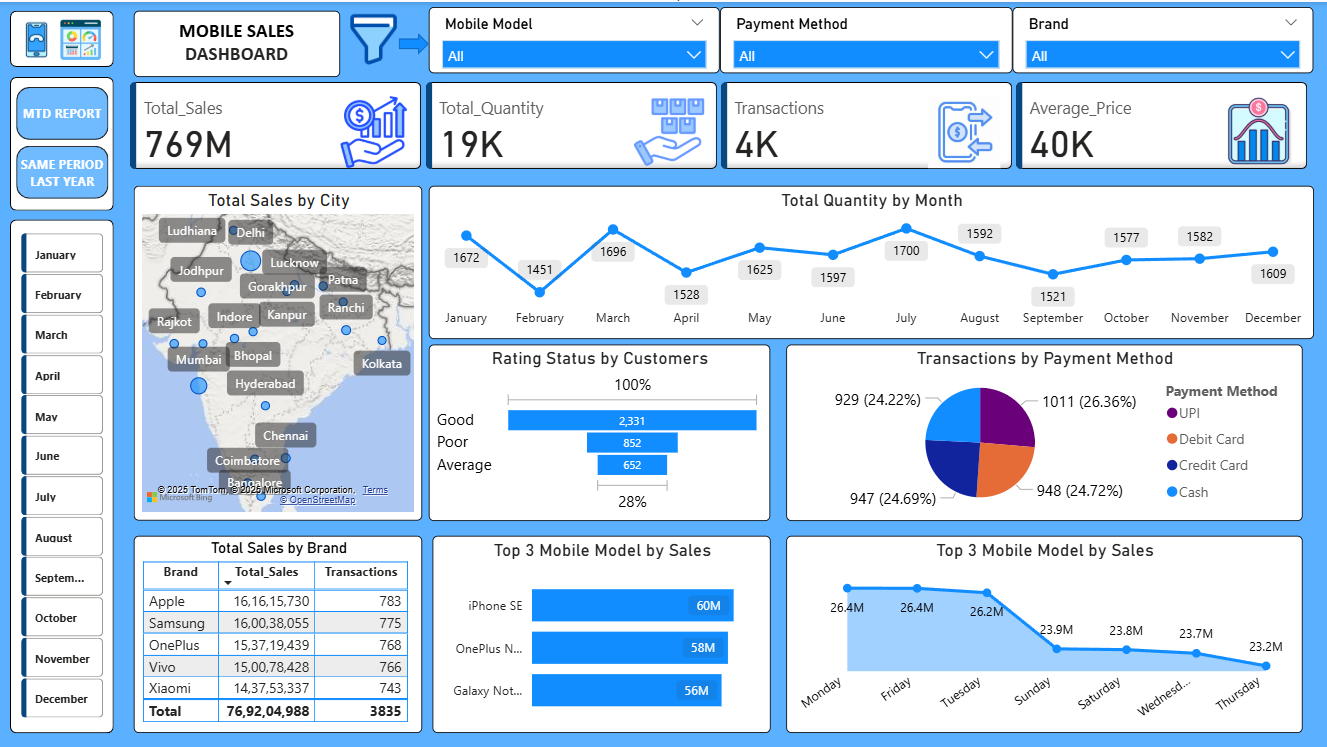

Layout of this report page (visuals, bound fields, positions):
{"tool":"powerbi","page":{"name":"DASHBOARD","canvas":[1280,720],"ordinal":0},"visuals":[{"type":"shape","box":[9.7,8.4,100.1,54.3],"z":0},{"type":"image","box":[8.4,13.3,54.3,47.1],"z":1000},{"type":"shape","box":[9.7,72.4,100.1,129.1],"z":2000},{"type":"textbox","box":[129.1,8.4,199.1,63.9],"z":3000},{"type":"shape","box":[9.7,208.9,100.1,495.8],"z":3000},{"type":"cardVisual","fields":{"Data":["Sales_Data.Total_Sales","Sales_Data.Total_Quantity","Sales_Data.Transactions","Sales_Data.Average_Price"]},"box":[120.6,72.4,1147.3,94.1],"z":4000},{"type":"advancedSlicerVisual","fields":{"Values":["Custom_Calendar.Date.Variation.Date Hierarchy.Month"]},"box":[15.7,217.3,89.3,487.4],"z":4000},{"type":"slicer","fields":{"Values":["Sales_Data.Mobile Model"]},"box":[413.8,4.8,281.1,63.9],"z":5000},{"type":"slicer","fields":{"Values":["Sales_Data.Payment Method"]},"box":[694.9,4.8,282.3,63.9],"z":6000},{"type":"slicer","fields":{"Values":["Sales_Data.Brand"]},"box":[977.2,4.8,290.8,63.9],"z":7000},{"type":"image","box":[328.2,0,65.1,72.4],"z":8000},{"type":"shape","box":[384.9,30.2,29,20.5],"z":9000},{"type":"map","title":"Total Sales by City","fields":{"Category":["Sales_Data.City"],"Size":["Sales_Data.Total_Sales"]},"box":[129.1,177.3,278.7,323.3],"z":10000},{"type":"lineChart","title":"Total Quantity by Month","fields":{"Y":["Sales_Data.Total_Quantity"],"Category":["Custom_Calendar.Date.Variation.Date Hierarchy.Month"]},"box":[413.8,177.3,854.2,148.4],"z":11000},{"type":"funnel","title":"Rating Status by Customers","fields":{"Y":["CountNonNull(Sales_Data.Rating Status)"],"Category":["Sales_Data.Rating Status"]},"box":[413.8,330.6,329.4,170.1],"z":12000},{"type":"pieChart","fields":{"Category":["Sales_Data.Payment Method"],"Y":["Sales_Data.Transactions"]},"box":[758.9,330.6,498.3,170.1],"z":13000},{"type":"clusteredBarChart","title":"Top 3 Mobile Model by Sales","fields":{"Category":["Sales_Data.Mobile Model"],"Y":["Sales_Data.Total_Sales"]},"box":[417.2,514.6,326.6,190.7],"z":14000},{"type":"areaChart","title":"Top 3 Mobile Model by Sales","fields":{"Category":["Custom_Calendar.Day Name"],"Y":["Sales_Data.Total_Sales"]},"box":[758.8,514.6,498.1,190.7],"z":15000},{"type":"tableEx","title":"Total Sales by Brand","fields":{"Values":["Sales_Data.Brand","Sales_Data.Total_Sales","Sales_Data.Transactions"]},"box":[129,514.6,278.6,190.7],"z":16000},{"type":"pageNavigator","box":[15.7,82,89.3,109.8],"z":17501},{"type":"image","box":[53.5,7.9,49.5,56.7],"z":17502}]}

Visuals, with their boxes in screenshot pixels (x1, y1, x2, y2), scaled from the page's 1280x720 canvas onto the 1327x747 screenshot:
shape: {"left": 10, "top": 9, "right": 114, "bottom": 65}
image: {"left": 9, "top": 14, "right": 65, "bottom": 63}
shape: {"left": 10, "top": 75, "right": 114, "bottom": 209}
textbox: {"left": 134, "top": 9, "right": 340, "bottom": 75}
shape: {"left": 10, "top": 217, "right": 114, "bottom": 731}
cardVisual - Sales_Data.Total_Sales x Sales_Data.Total_Quantity: {"left": 125, "top": 75, "right": 1314, "bottom": 173}
advancedSlicerVisual - Custom_Calendar.Date.Variation.Date Hierarchy.Month: {"left": 16, "top": 225, "right": 109, "bottom": 731}
slicer - Sales_Data.Mobile Model: {"left": 429, "top": 5, "right": 720, "bottom": 71}
slicer - Sales_Data.Payment Method: {"left": 720, "top": 5, "right": 1013, "bottom": 71}
slicer - Sales_Data.Brand: {"left": 1013, "top": 5, "right": 1315, "bottom": 71}
image: {"left": 340, "top": 0, "right": 408, "bottom": 75}
shape: {"left": 399, "top": 31, "right": 429, "bottom": 53}
"Total Sales by City" map: {"left": 134, "top": 184, "right": 423, "bottom": 519}
"Total Quantity by Month" lineChart: {"left": 429, "top": 184, "right": 1315, "bottom": 338}
"Rating Status by Customers" funnel: {"left": 429, "top": 343, "right": 770, "bottom": 519}
pieChart - Sales_Data.Payment Method x Sales_Data.Transactions: {"left": 787, "top": 343, "right": 1303, "bottom": 519}
"Top 3 Mobile Model by Sales" clusteredBarChart: {"left": 433, "top": 534, "right": 771, "bottom": 732}
"Top 3 Mobile Model by Sales" areaChart: {"left": 787, "top": 534, "right": 1303, "bottom": 732}
"Total Sales by Brand" tableEx: {"left": 134, "top": 534, "right": 423, "bottom": 732}
pageNavigator: {"left": 16, "top": 85, "right": 109, "bottom": 199}
image: {"left": 55, "top": 8, "right": 107, "bottom": 67}
